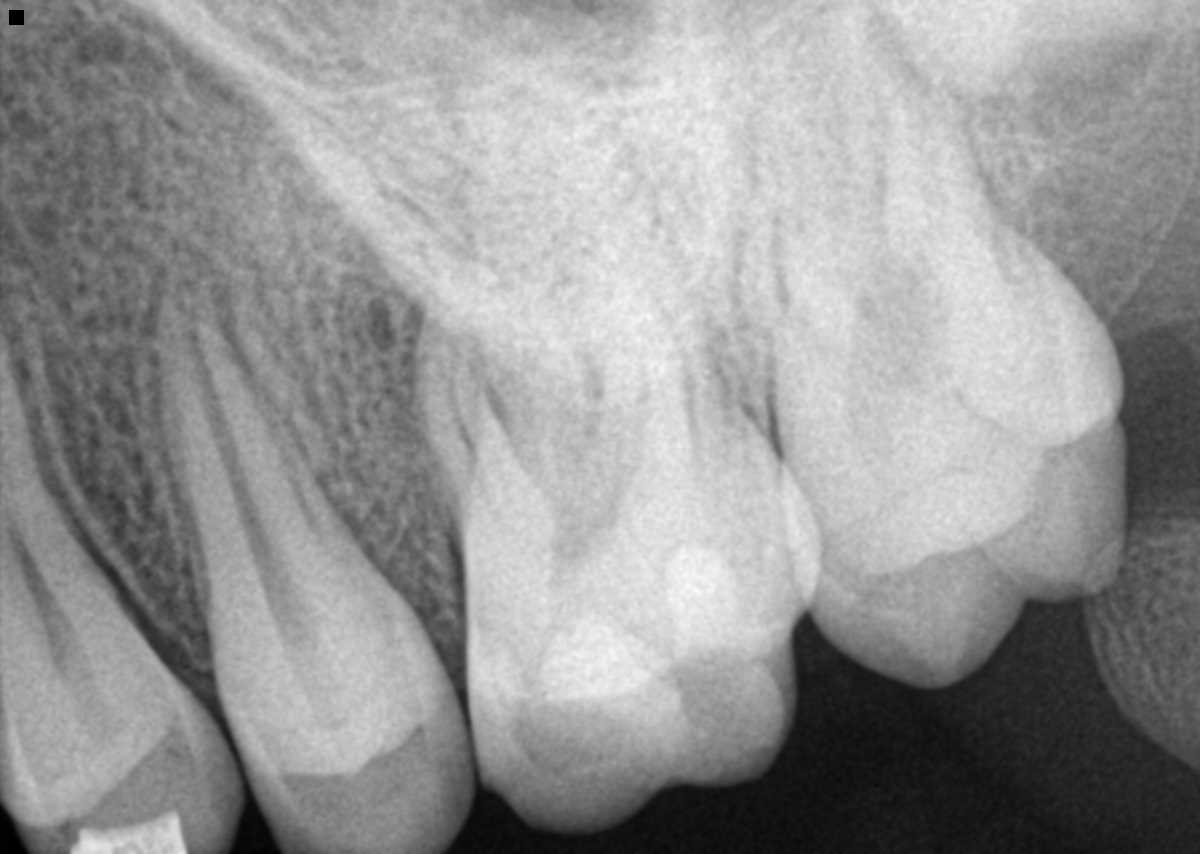Apical Lesion: (335, 216, 429, 432), (125, 234, 236, 344)
Distal Canal: (626, 358, 652, 467)
Distal Root: (559, 251, 702, 467), (886, 68, 1016, 292)
Main Canal: (180, 286, 324, 634), (0, 502, 86, 663)
Main Root: (151, 260, 385, 655), (0, 333, 152, 686)
Mesial Canal: (448, 330, 529, 542)
Mesial Root: (421, 265, 563, 571), (741, 107, 870, 371)
Palatal Root: (446, 7, 749, 513)
